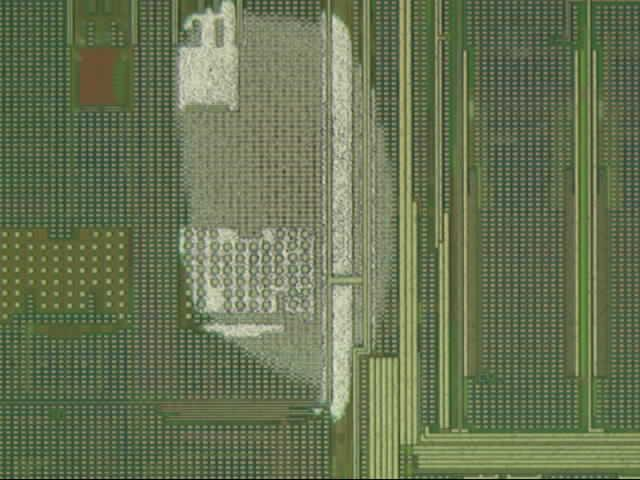BLOCK ETCH: (173, 1, 405, 425)
